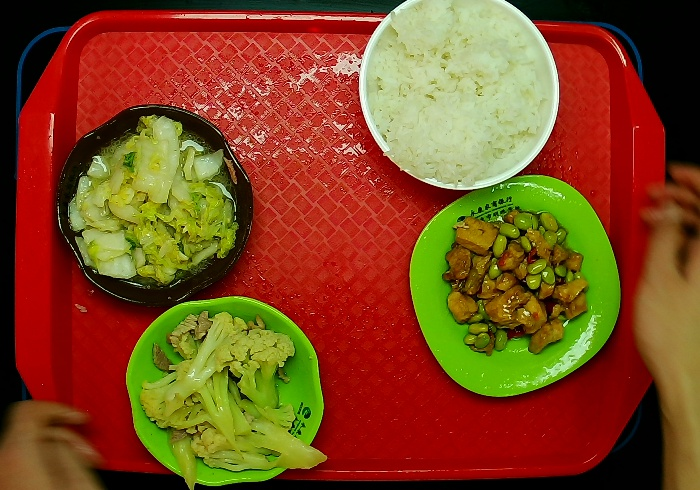YKMZ-Fan_Wan: (361, 1, 562, 189)
YKMZ-Ka_Fei_Ao_Bian_Wan: (48, 107, 254, 306)
YKMZ-Lv_Se_Ao_Bian_Wan: (130, 292, 328, 490)
YKMZ-Lv_Se_Fang_Die: (409, 171, 630, 400)
